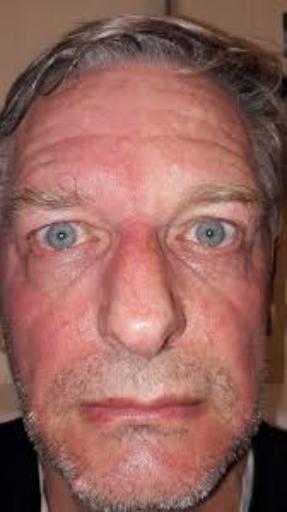left_eye: (175, 217, 243, 255)
left_lip_corner: (189, 386, 211, 417)
right_eye: (23, 217, 101, 260)
right_lip_corner: (74, 393, 103, 419)
